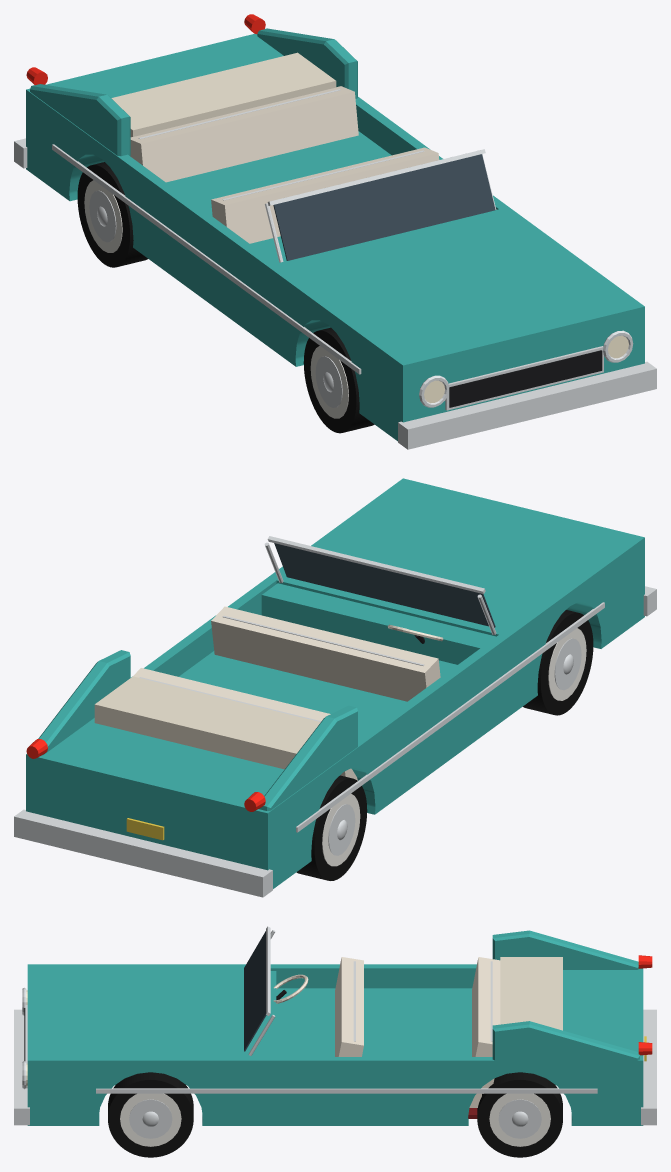
Rendered from convertible.glb.
3 views of the same model, one above another, from view 1: azimuth 30°, elevation 25°; view 2: azimuth 150°, elevation 25°; view 3: azimuth 270°, elevation 25° (orthographic). The views are drawn at different scales.
Parts seen in each view (by area): view 1: paint0, glass14, seat26, top28, chrome3, seat23, paint1, trim7, paint2, chrome5_mx, tyre29, tyre33 (+6 smaller); view 2: paint0, top28, seat23, paint19, chrome4, glass14, paint1, paint2, chrome5_mx, tyre33, tyre29, seat26 (+5 smaller); view 3: paint0, top28, paint2, tyre41, paint1, tyre37, chrome5, seat23, seat26, glass14, chrome4, whitewall38 (+6 smaller).
Boxes of the visible parts, x1,y1,x2,y2 form: paint0: [26, 34, 644, 441]; glass14: [273, 154, 495, 260]; seat26: [130, 86, 358, 182]; top28: [111, 52, 336, 137]; chrome3: [398, 361, 656, 449]; seat23: [211, 147, 439, 243]; paint1: [30, 84, 130, 156]; trim7: [449, 350, 602, 407]; paint2: [257, 28, 357, 98]; chrome5_mx: [52, 144, 361, 374]; tyre29: [77, 162, 147, 267]; tyre33: [303, 327, 374, 433]; paint0: [26, 478, 644, 888]; top28: [94, 676, 320, 769]; seat23: [211, 606, 440, 701]; paint19: [261, 583, 495, 664]; chrome4: [14, 809, 272, 897]; glass14: [274, 543, 495, 627]; paint1: [259, 705, 357, 810]; paint2: [38, 650, 130, 755]; chrome5_mx: [296, 602, 604, 832]; tyre33: [523, 610, 593, 715]; tyre29: [296, 775, 367, 880]; seat26: [133, 668, 357, 779]; paint0: [27, 964, 643, 1125]; top28: [500, 957, 562, 1030]; paint2: [492, 1021, 639, 1060]; tyre41: [108, 1072, 193, 1157]; paint1: [492, 930, 639, 969]; tyre37: [477, 1072, 562, 1157]; chrome5: [96, 1088, 597, 1093]; seat23: [335, 957, 363, 1056]; seat26: [472, 957, 500, 1093]; glass14: [244, 931, 266, 1051]; chrome4: [641, 1009, 656, 1125]; whitewall38: [489, 1093, 550, 1146].
Size of the model in its own units: 2.06 by 1.37 by 5.64.
